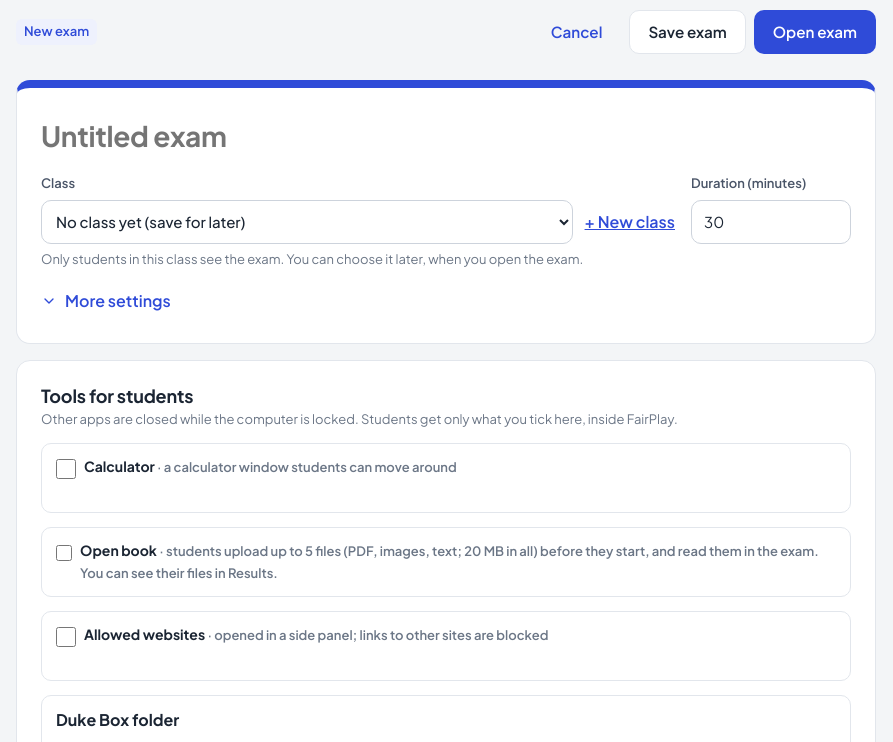
it: exam settings S3 / S6 › the editor shows both toggles under More settings
What coordinates should you click on to do the following:
click the button "More settings"
I would click on:
 (110, 301)
Its box is [41,283,179,319].
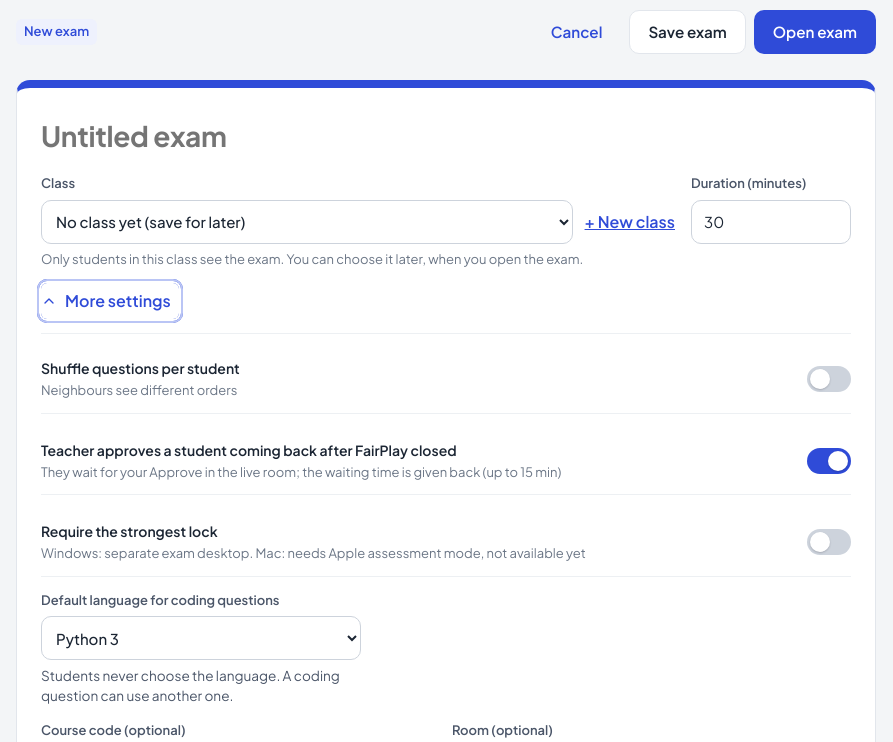
Expected: the text "Mac: needs Apple assessment mode, not available yet" is shown, [41,545,586,561]
What coordinates should you click on to do the following:
click the switch named "Require the strongest lock" in the row of "Require the strongest lock"
I would click on:
 (829, 542)
Its box is [807,529,851,555].
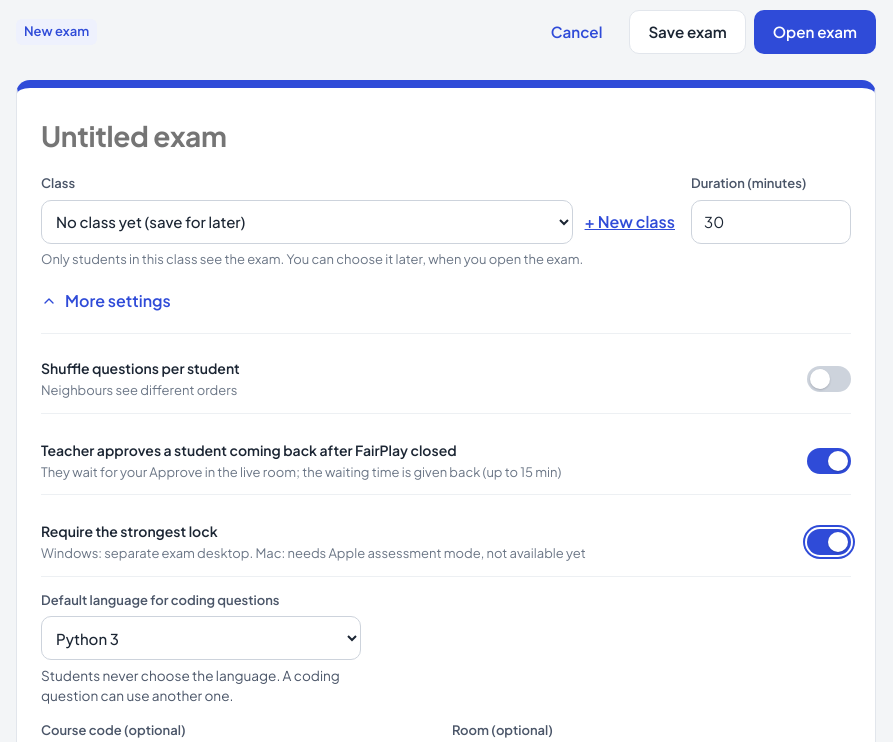
Expected: the switch named "Require the strongest lock" in the row of "Require the strongest lock" is checked, [807,529,851,555]
